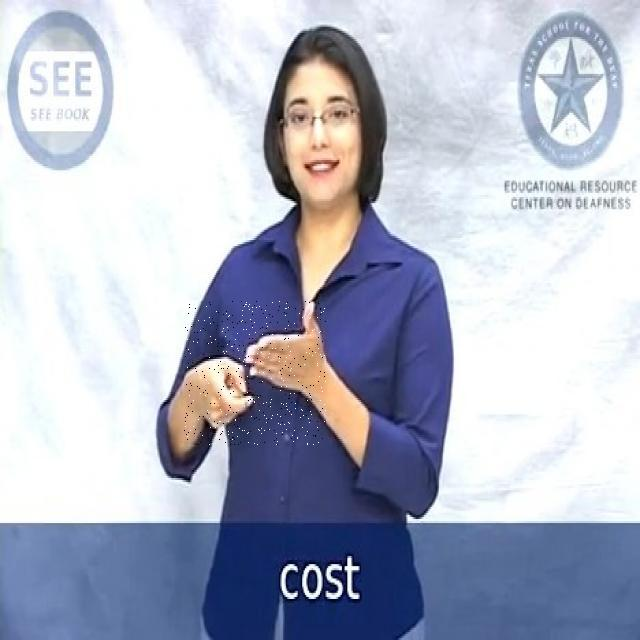cost: (184, 302, 326, 446)
